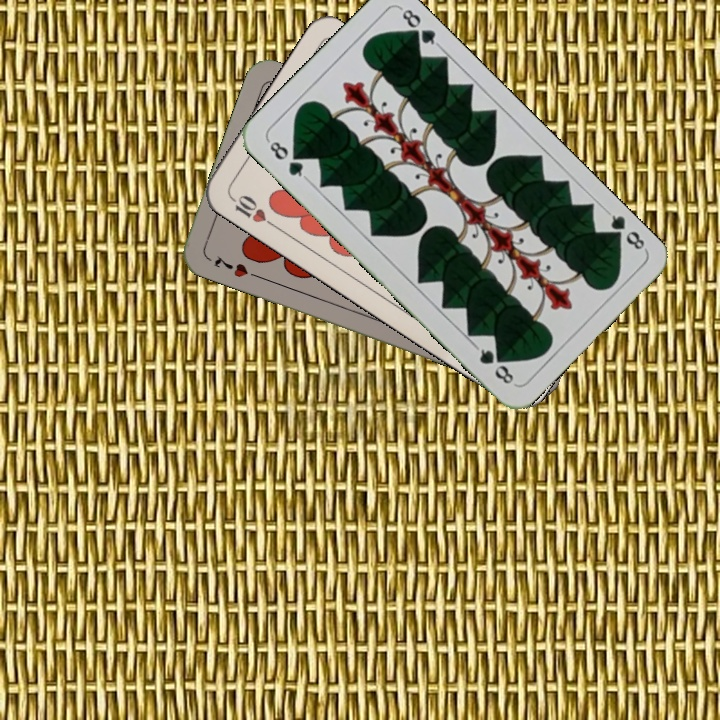G8: (603, 206, 649, 253), (264, 136, 310, 182)
H10: (226, 190, 278, 230)
H7: (210, 252, 262, 281)
